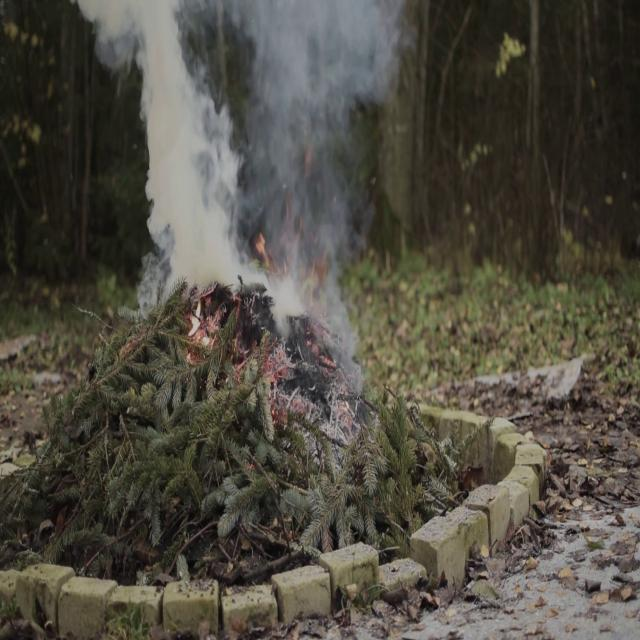Smoke: (85, 0, 249, 307), (252, 1, 399, 326)
